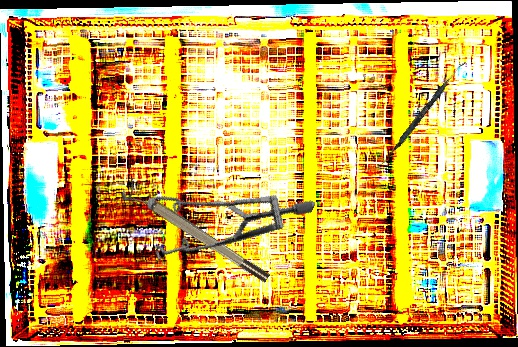Fixation Ring: (119, 177, 272, 292)
Spatula Surgical: (381, 58, 466, 167)
Speculum: (127, 138, 316, 310)
